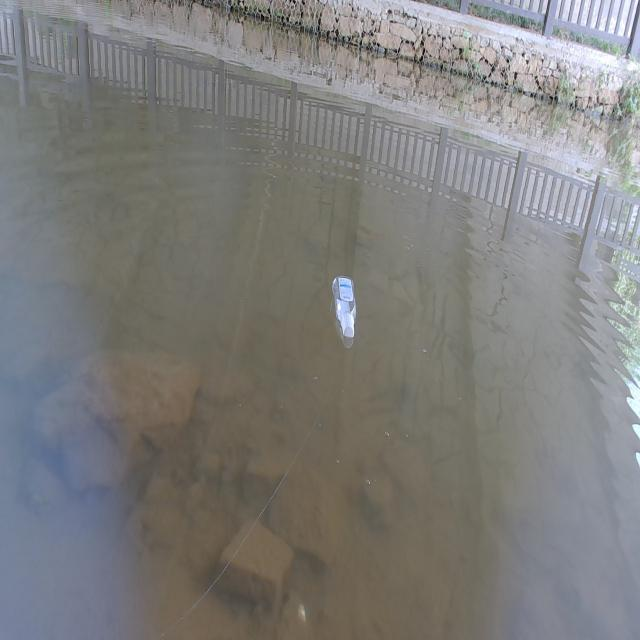garbage: (331, 274, 357, 346)
